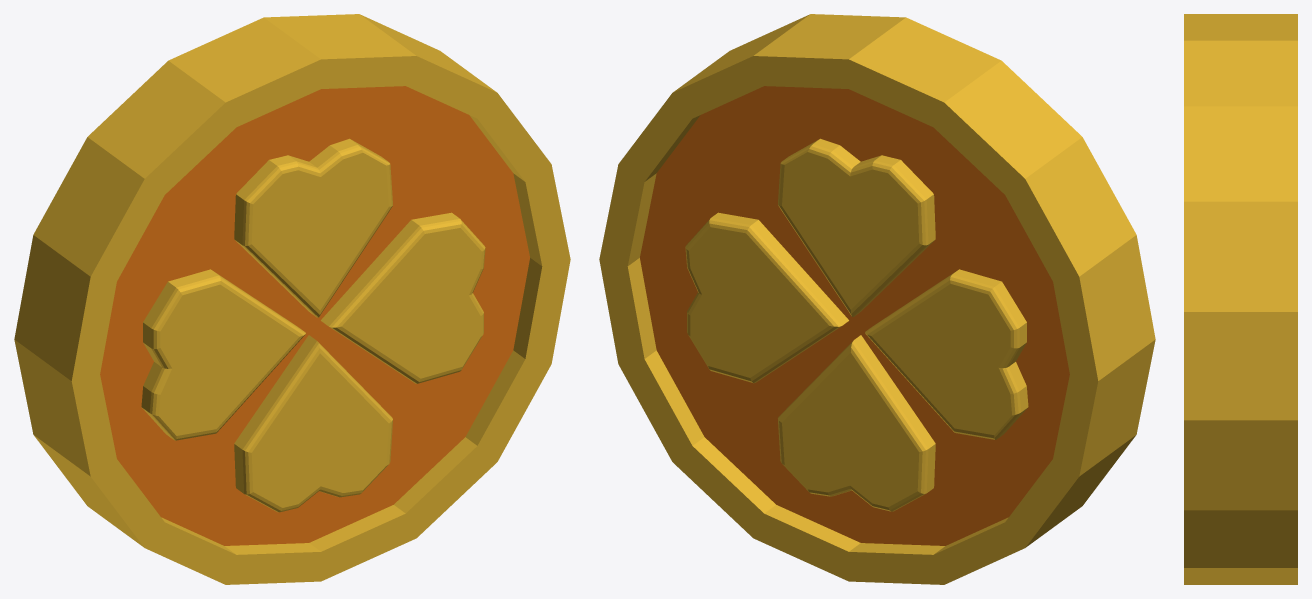
The model's file is LeafCoin.fbx.
The picture shows the model from 3 angles, left to right: view 1: azimuth 30°, elevation 25°; view 2: azimuth 150°, elevation 25°; view 3: azimuth 270°, elevation 25°; orthographic projection.
Visible parts, largest first — view 1: LeafCoin; view 2: LeafCoin; view 3: LeafCoin.
Part boxes in pixels (x1,y1,x2,y2): LeafCoin: (14, 14, 570, 584); LeafCoin: (599, 14, 1155, 584); LeafCoin: (1184, 14, 1297, 584).
Bounding box in the file's own units: 84.1 × 84.1 × 16.74.
